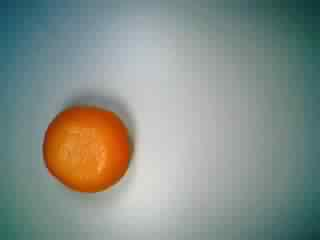orange: (37, 101, 138, 196)
